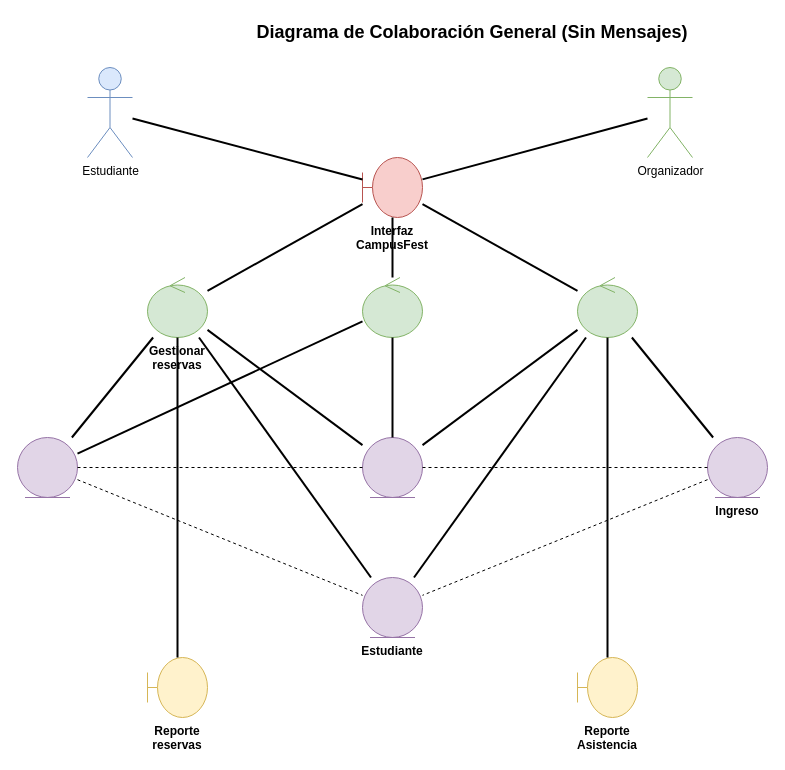
The diagram is 785 pixels wide and 770 high, and some of its shapes have lost their labels. The shapes that lost their labels are listed below. From the top down, each one's centre as x and y in pixels, then its label:
At [392,307]: "Cálculo Cupos".
At [607,307]: "Gestionar asistencias".
At [47,467]: "Reserva".
At [392,467]: "Evento".
